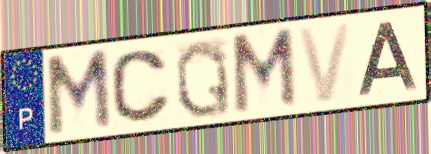A: (355, 20, 421, 98)
C: (108, 47, 173, 126)
M: (228, 24, 300, 119), (43, 46, 114, 140)
Q: (173, 37, 234, 120)
V: (295, 20, 355, 106)
